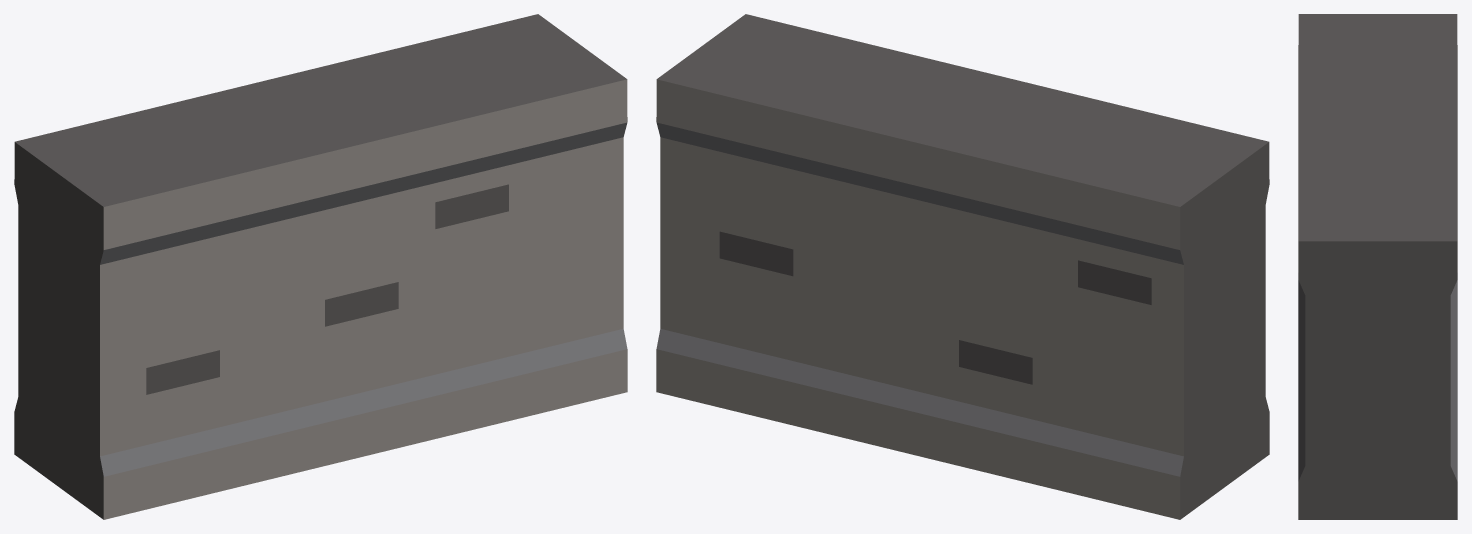
File: Wall_Tiny2.fbx
3 views of the same model, side by side, from view 1: azimuth 30°, elevation 25°; view 2: azimuth 150°, elevation 25°; view 3: azimuth 270°, elevation 25° (orthographic). The views are drawn at different scales.
Visible parts, largest first — view 1: SM_Bld_Knights_Castle_03; view 2: SM_Bld_Knights_Castle_03; view 3: SM_Bld_Knights_Castle_03.
Part boxes in pixels (x1,y1,x2,y2): SM_Bld_Knights_Castle_03: (14, 14, 627, 519); SM_Bld_Knights_Castle_03: (656, 14, 1269, 519); SM_Bld_Knights_Castle_03: (1298, 14, 1457, 519).
Size of the model in its own units: 154 by 87.64 by 45.36.
